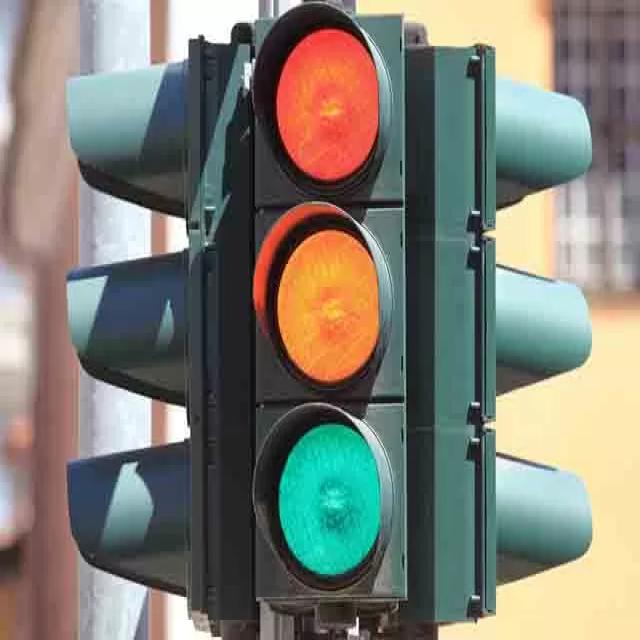Hijau: (277, 422, 383, 578)
Kuning: (275, 229, 381, 384)
Merah: (275, 25, 381, 183)
